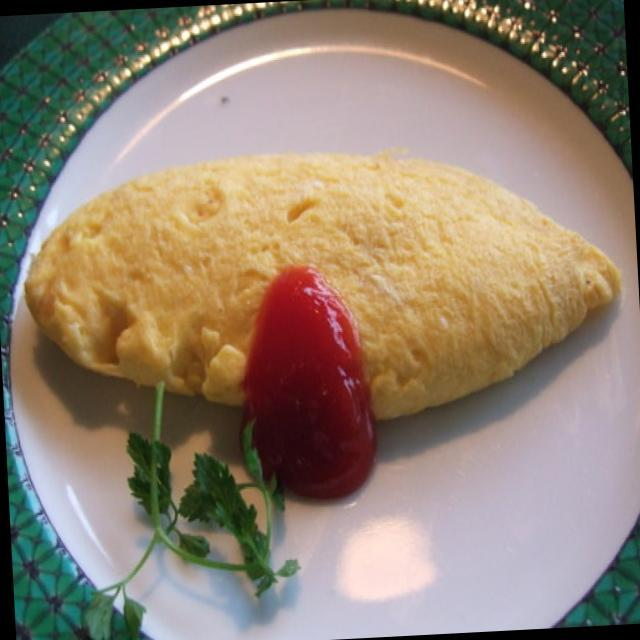Omelet: (12, 124, 624, 432)
